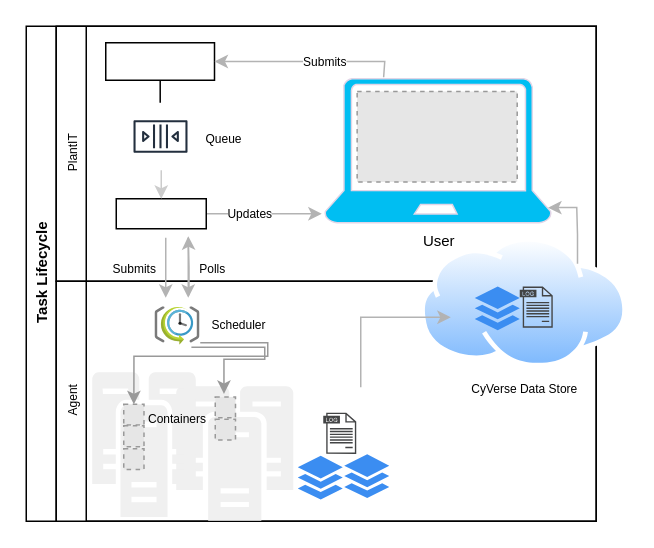
Some shapes in this 654 by 548 pixel diagram are drawn without their labels. Grey dashed boxes stand in for pictures. Each missing label, with the centre of its shape:
"Orchestrator" belongs at (160,213).
"Web Application" belongs at (159,60).
